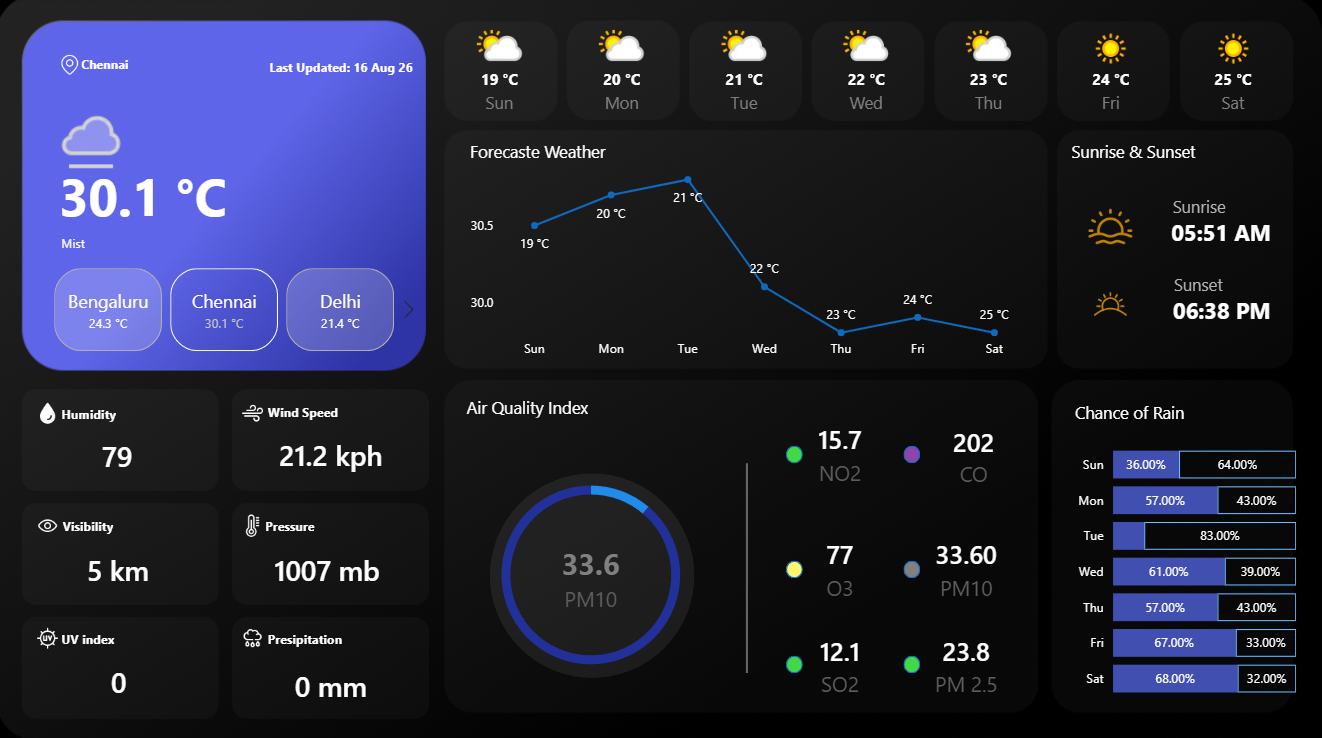

This screenshot's page, from the dashboard's own definition file:
{"tool":"powerbi","page":{"name":"Page 1","canvas":[1280,720],"ordinal":0},"visuals":[{"type":"donutChart","fields":{"Y":["Min(Current.current.air_quality.pm10)","_Measures.left aqi value"]},"box":[452.4,445.2,243.7,225.6],"z":0},{"type":"shape","box":[476.1,460.2,197.7,197.7],"z":1000},{"type":"advancedSlicerVisual","fields":{"Values":["Locations.location.name"]},"box":[31.2,257.5,382.5,90],"z":2000},{"type":"shape","box":[55,152.1,180.7,74.3],"z":3000},{"type":"shape","box":[61.4,226.4,146.4,21.4],"z":4000},{"type":"shape","box":[81.1,54.3,146.4,21.4],"z":5000},{"type":"shape","box":[258.3,56.7,145.8,22.5],"z":6000},{"type":"image","box":[61.3,51.3,19.5,27.1],"z":7000},{"type":"cardVisual","fields":{"Data":["Min(Current.current.condition.icon)"]},"box":[22.7,0.9,138.2,188.2],"z":8000},{"type":"image","box":[37.5,390.8,24.2,21.7],"z":9000},{"type":"shape","box":[61.7,390.8,145.8,22.5],"z":10000},{"type":"image","box":[235.8,390.8,24.2,21.7],"z":11000},{"type":"shape","box":[260,390,145.8,22.5],"z":12000},{"type":"image","box":[37.5,499.2,24.2,21.7],"z":13000},{"type":"shape","box":[62.5,499.2,145.8,22.5],"z":14000},{"type":"image","box":[37.5,607.5,24.2,21.7],"z":15000},{"type":"shape","box":[61.7,607.5,145.8,22.5],"z":16000},{"type":"image","box":[235.8,499.2,24.2,21.7],"z":17000},{"type":"shape","box":[258.3,499.2,145.8,22.5],"z":18000},{"type":"image","box":[235.8,607.5,24.2,21.7],"z":19000},{"type":"shape","box":[260,607.5,145.8,22.5],"z":20000},{"type":"cardVisual","fields":{"Data":["Min(Current.current.humidity)"]},"box":[72.1,410.7,89.3,62.1],"z":21000},{"type":"cardVisual","fields":{"Data":["_Measures.visibility_km"]},"box":[38.6,521.4,158.6,61.4],"z":22000},{"type":"cardVisual","fields":{"Data":["Min(Current.current.uv)"]},"box":[70,628.6,97.1,62.9],"z":23000},{"type":"cardVisual","fields":{"Data":["_Measures.Wind_in_kph"]},"box":[240,406.9,166.2,69.2],"z":24000},{"type":"cardVisual","fields":{"Data":["_Measures.preesure_in_mm"]},"box":[236.2,516.2,166.2,70],"z":25000},{"type":"cardVisual","fields":{"Data":["_Measures.precipitation_in_mm"]},"box":[240,628.5,166.2,70],"z":26000},{"type":"advancedSlicerVisual","fields":{"Label":["Min(Forecast_day.forecast.forecastday.day.avgtemp_c)"],"Values":["Forecast_day.dayName"]},"box":[425.7,24.8,834.3,105.2],"z":27000},{"type":"lineChart","title":"Forecaste Weather","fields":{"Y":["Sum(Forecast_day.forecast.forecastday.day.avgtemp_c)"],"Category":["Forecast_day.dayName"]},"box":[452,137,546,220],"z":28000},{"type":"shape","box":[1128.1,188.1,108.1,76.2],"z":29000},{"type":"shape","box":[1036.7,136.7,145.8,22.5],"z":30000},{"type":"image","box":[1042.3,200,66.9,42.3],"z":31000},{"type":"shape","title":"Sunset","box":[1128.5,264.6,107.7,75.4],"z":32000},{"type":"shape","box":[1134.6,189.2,101.5,21.5],"z":33000},{"type":"shape","box":[1135,264.4,101.9,21.9],"z":34000},{"type":"image","box":[1042.3,275.4,66.9,42.3],"z":35000},{"type":"hundredPercentStackedBarChart","title":"Chance of Rain","fields":{"Category":["Forecast_day.dayName"],"Y":["Sum(Forecast_day.forecast.forecastday.day.daily_chance_of_rain)","_Measures.Left_value_Rain"]},"box":[1036.2,390,223.8,301.2],"z":36000},{"type":"cardVisual","fields":{"Data":["Min(Current.current.air_quality.co)"]},"box":[883.3,395.8,121.7,95.8],"z":37000},{"type":"cardVisual","fields":{"Data":["Min(Current.current.air_quality.no2)"]},"box":[753.6,395.5,121.8,91.8],"z":38000},{"type":"cardVisual","fields":{"Data":["Min(Current.current.air_quality.o3)"]},"box":[753.6,507.3,121.8,91.8],"z":39000},{"type":"cardVisual","fields":{"Data":["Sum(Current.current.air_quality.pm10)"]},"box":[876.4,507.3,121.8,91.8],"z":40000},{"type":"cardVisual","fields":{"Data":["Min(Current.current.air_quality.so2)"]},"box":[754.5,599.1,121.8,91.8],"z":41000},{"type":"cardVisual","fields":{"Data":["Min(Current.current.air_quality.pm2_5)"]},"box":[875.5,599.1,121.8,91.8],"z":42000},{"type":"shape","box":[452,384,146,24],"z":43000},{"type":"shape","box":[875.4,544.6,16.2,16.9],"z":44000},{"type":"shape","box":[876.2,433.1,16.2,16.9],"z":45000},{"type":"shape","box":[762.3,636.2,16.2,16.9],"z":46000},{"type":"shape","box":[762.3,544.6,16.2,16.9],"z":47000},{"type":"shape","box":[762.3,433.1,16.2,16.9],"z":48000},{"type":"shape","box":[876.2,636.2,16.2,16.9],"z":49000},{"type":"shape","box":[630,450,190,202.5],"z":50000},{"type":"cardVisual","fields":{"Data":["Min(Current.current.air_quality.pm10)"]},"box":[507.9,507.9,132.7,105.3],"z":51000}]}

Visuals, with their boxes in screenshot pixels (x1, y1, x2, y2), scaled from the page's 1280x720 canvas onto the 1322x738 screenshot:
donutChart - Min(Current.current.air_quality.pm10) x _Measures.left aqi value: detection(467, 456, 719, 688)
shape: detection(492, 472, 696, 674)
advancedSlicerVisual - Locations.location.name: detection(32, 264, 427, 356)
shape: detection(57, 156, 243, 232)
shape: detection(63, 232, 215, 254)
shape: detection(84, 56, 235, 78)
shape: detection(267, 58, 417, 81)
image: detection(63, 53, 83, 80)
cardVisual - Min(Current.current.condition.icon): detection(23, 1, 166, 194)
image: detection(39, 401, 64, 423)
shape: detection(64, 401, 214, 424)
image: detection(244, 401, 269, 423)
shape: detection(269, 400, 419, 423)
image: detection(39, 512, 64, 534)
shape: detection(65, 512, 215, 535)
image: detection(39, 623, 64, 645)
shape: detection(64, 623, 214, 646)
image: detection(244, 512, 269, 534)
shape: detection(267, 512, 417, 535)
image: detection(244, 623, 269, 645)
shape: detection(269, 623, 419, 646)
cardVisual - Min(Current.current.humidity): detection(74, 421, 167, 485)
cardVisual - _Measures.visibility_km: detection(40, 534, 204, 597)
cardVisual - Min(Current.current.uv): detection(72, 644, 173, 709)
cardVisual - _Measures.Wind_in_kph: detection(248, 417, 420, 488)
cardVisual - _Measures.preesure_in_mm: detection(244, 529, 416, 601)
cardVisual - _Measures.precipitation_in_mm: detection(248, 644, 420, 716)
advancedSlicerVisual - Min(Forecast_day.forecast.forecastday.day.avgtemp_c) x Forecast_day.dayName: detection(440, 25, 1301, 133)
"Forecaste Weather" lineChart: detection(467, 140, 1031, 366)
shape: detection(1165, 193, 1277, 271)
shape: detection(1071, 140, 1221, 163)
image: detection(1077, 205, 1146, 248)
"Sunset" shape: detection(1166, 271, 1277, 348)
shape: detection(1172, 194, 1277, 216)
shape: detection(1172, 271, 1277, 293)
image: detection(1077, 282, 1146, 326)
"Chance of Rain" hundredPercentStackedBarChart: detection(1070, 400, 1301, 708)
cardVisual - Min(Current.current.air_quality.co): detection(912, 406, 1038, 504)
cardVisual - Min(Current.current.air_quality.no2): detection(778, 405, 904, 499)
cardVisual - Min(Current.current.air_quality.o3): detection(778, 520, 904, 614)
cardVisual - Sum(Current.current.air_quality.pm10): detection(905, 520, 1031, 614)
cardVisual - Min(Current.current.air_quality.so2): detection(779, 614, 905, 708)
cardVisual - Min(Current.current.air_quality.pm2_5): detection(904, 614, 1030, 708)
shape: detection(467, 394, 618, 418)
shape: detection(904, 558, 921, 576)
shape: detection(905, 444, 922, 461)
shape: detection(787, 652, 804, 669)
shape: detection(787, 558, 804, 576)
shape: detection(787, 444, 804, 461)
shape: detection(905, 652, 922, 669)
shape: detection(651, 461, 847, 669)
cardVisual - Min(Current.current.air_quality.pm10): detection(525, 521, 662, 629)
